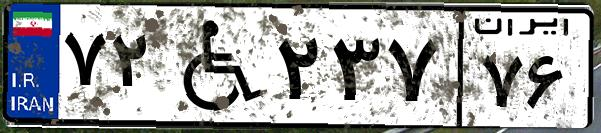2: (270, 28, 330, 110), (110, 28, 158, 98)
3: (330, 28, 385, 110)
6: (525, 38, 570, 115)
7: (385, 28, 445, 110), (57, 26, 110, 100), (475, 38, 525, 113)
ژ (معلولین و جانبازان): (158, 12, 270, 120)
